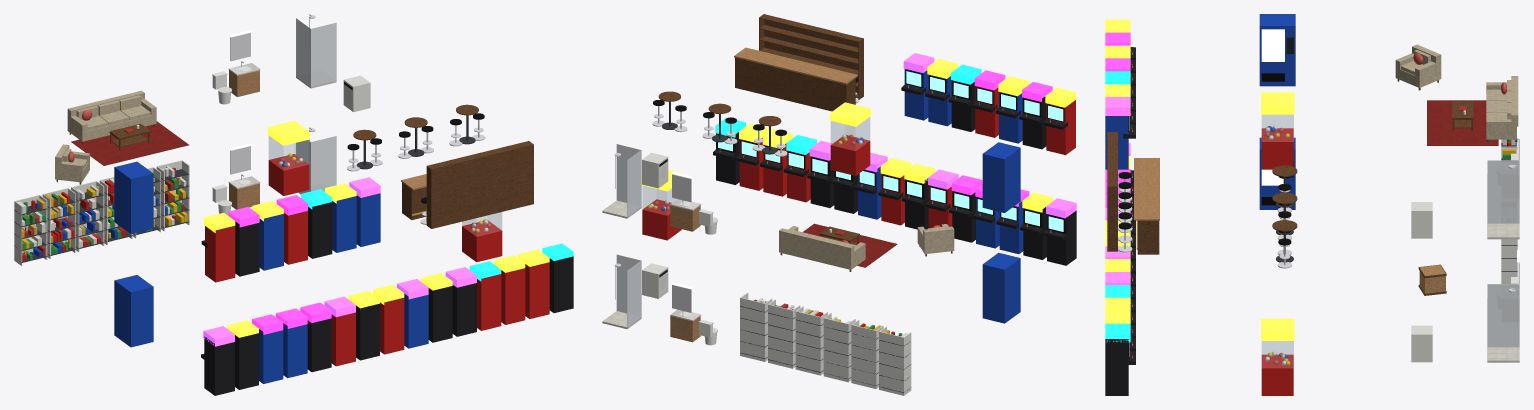
File: i_galaxy_arcade.gltf
3 views of the same model, side by side, from view 1: azimuth 30°, elevation 25°; view 2: azimuth 150°, elevation 25°; view 3: azimuth 270°, elevation 25° (orthographic). The views are drawn at different scales.
Parts seen in each view (by area): view 1: I_galaxy_arcade; view 2: I_galaxy_arcade; view 3: I_galaxy_arcade.
Part boxes in pixels (x1,y1,x2,y2): I_galaxy_arcade: (14,14,573,395); I_galaxy_arcade: (602,14,1076,395); I_galaxy_arcade: (1105,14,1519,395).
Size of the model in its own units: 13.23 by 5.85 by 11.54.
31 materials, 9 textured.
